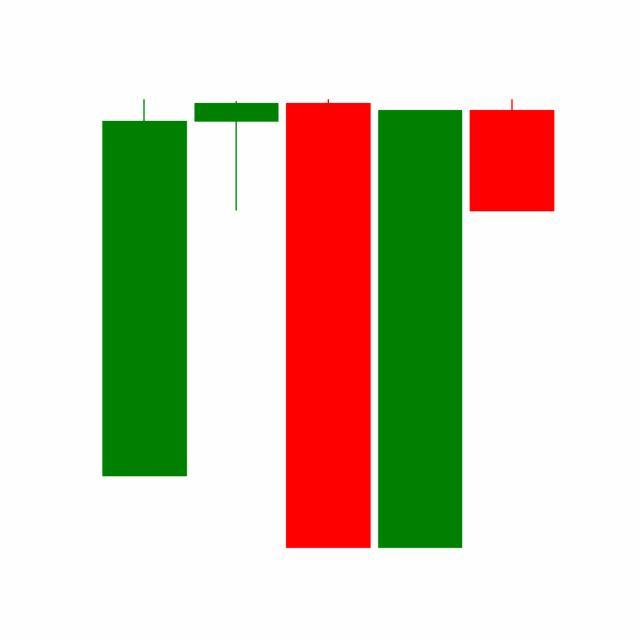Marubozu: (374, 105, 468, 553)
